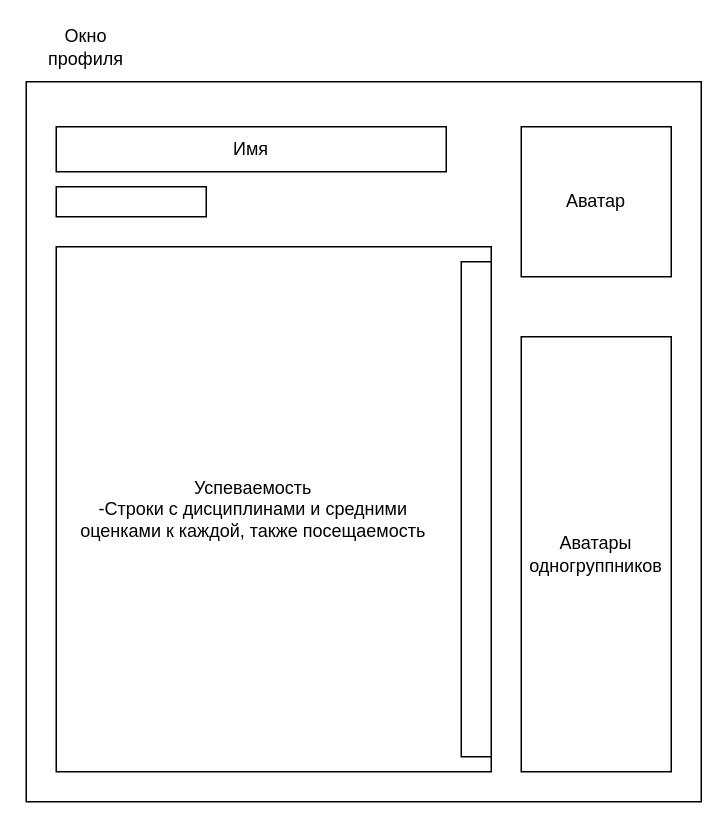
Image size: 728x828. Some labels were removed from this diagram. Each missing label, with the centre of its shape:
Группа: the point at 130,201
Скролл: the point at 475,508
